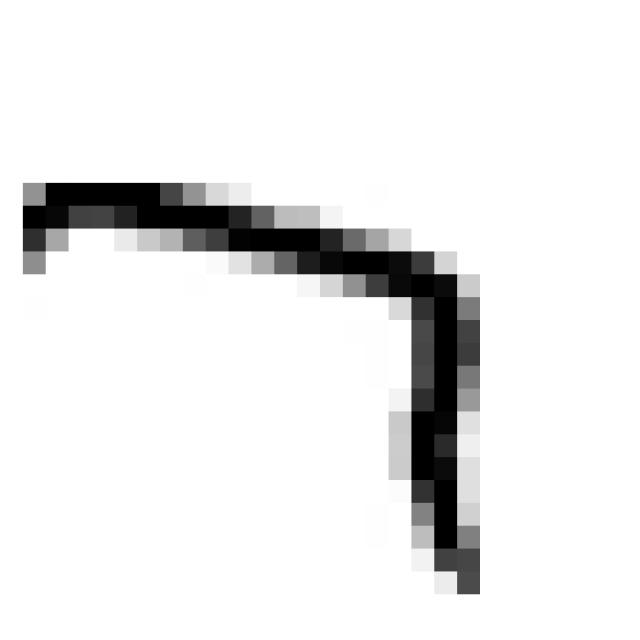6 -six-: (7, 155, 499, 618)
